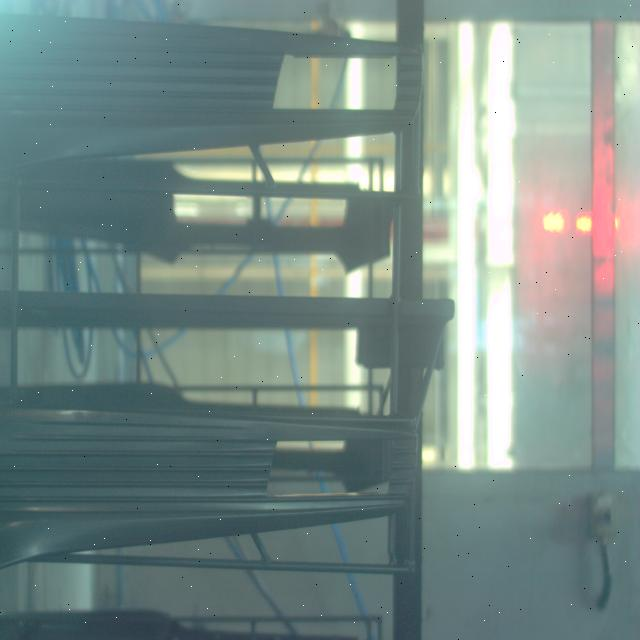Non_primered: (0, 411, 420, 570), (0, 14, 423, 156)
